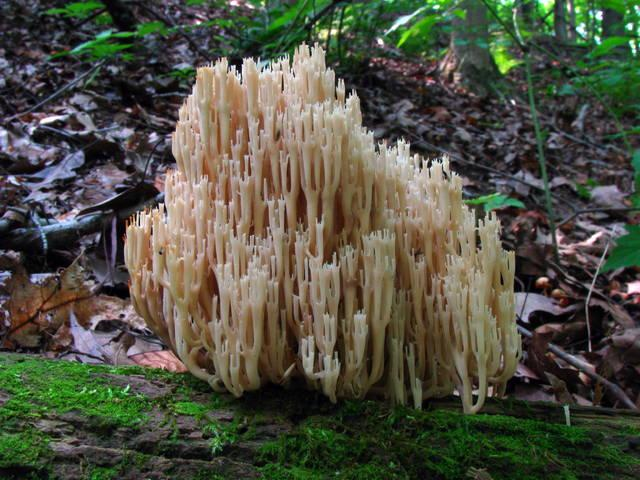edible_mushroom: (122, 40, 523, 414)
